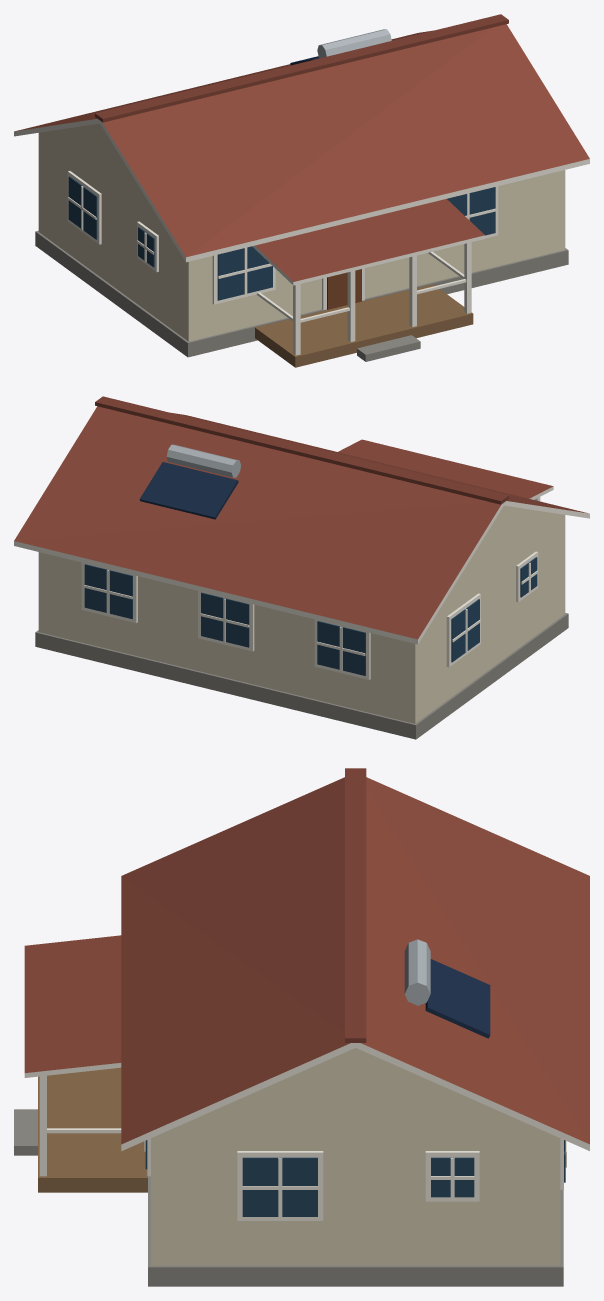
File: house_gable.glb
The picture shows the model from 3 angles, top to bottom: view 1: azimuth 30°, elevation 25°; view 2: azimuth 150°, elevation 25°; view 3: azimuth 270°, elevation 25°; orthographic projection. The views are drawn at different scales.
Visible parts, largest first — view 1: house_gable; view 2: house_gable; view 3: house_gable.
Boxes of the visible parts, x1,y1,x2,y2 form: house_gable: [14, 14, 589, 367]; house_gable: [14, 396, 589, 739]; house_gable: [14, 768, 589, 1286].
Size of the model in its own units: 11.86 by 5.26 by 10.69.
